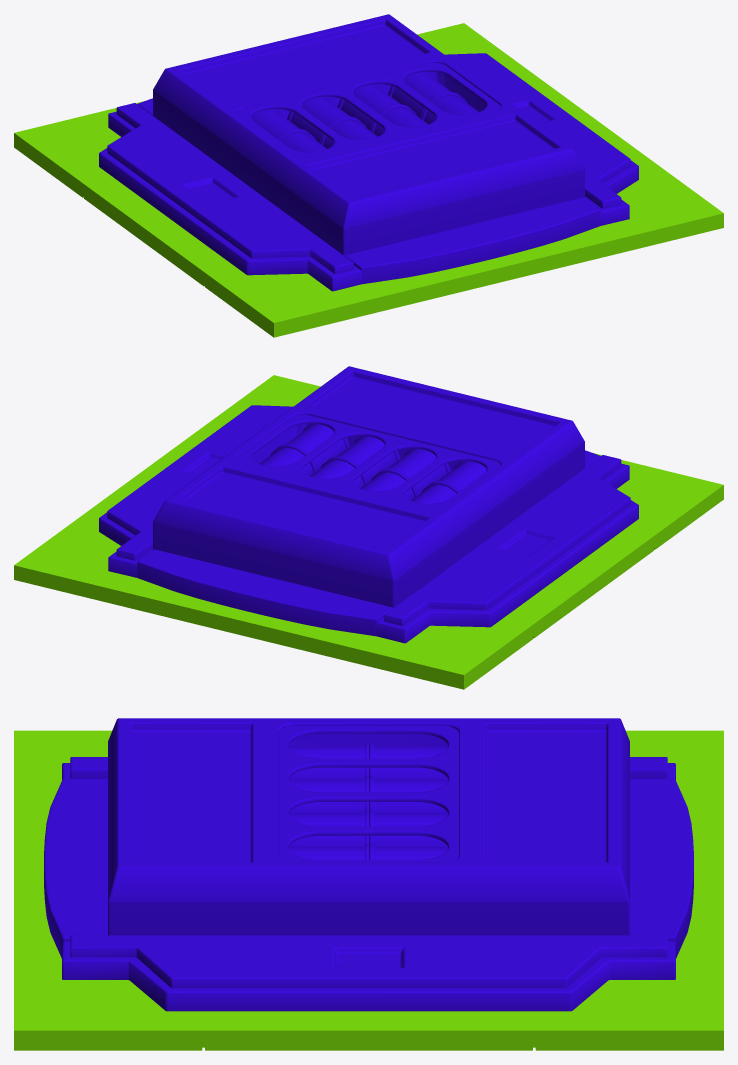
The model's file is Ceiling02.fbx.
3 views of the same model, one above another, from view 1: azimuth 30°, elevation 25°; view 2: azimuth 150°, elevation 25°; view 3: azimuth 270°, elevation 25° (orthographic). The views are drawn at different scales.
Visible parts, largest first — view 1: SM_Ceiling02; view 2: SM_Ceiling02; view 3: SM_Ceiling02.
Part boxes in pixels (x1,y1,x2,y2): SM_Ceiling02: (14, 14, 723, 337); SM_Ceiling02: (14, 366, 723, 689); SM_Ceiling02: (14, 718, 723, 1050).
Bounding box in the file's own units: 3.5 × 0.5879 × 3.5.
